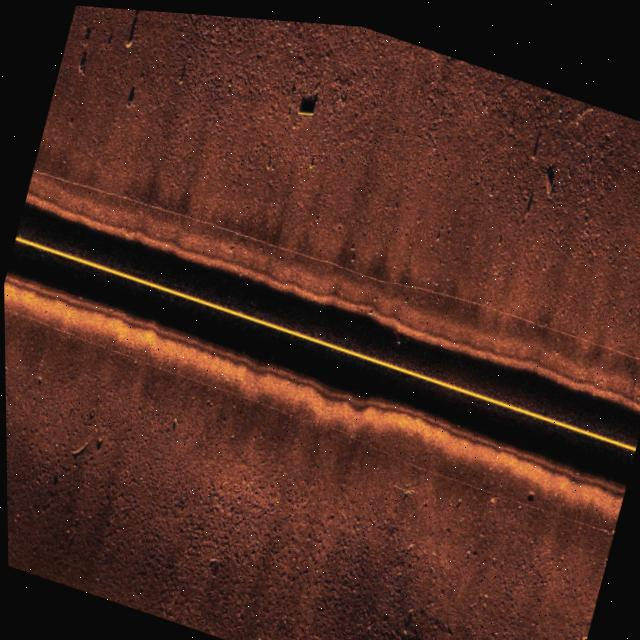mine: (291, 81, 320, 117)
